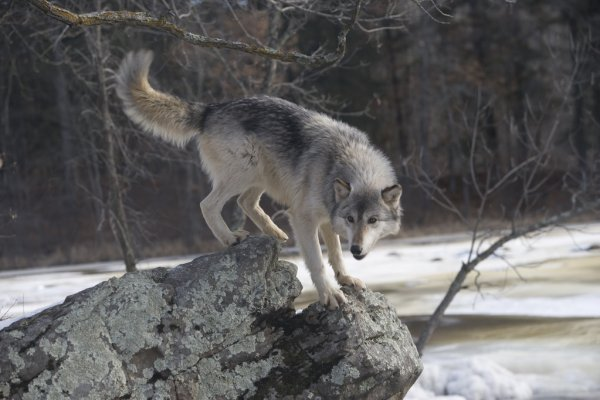Lobo: (111, 45, 418, 304)
